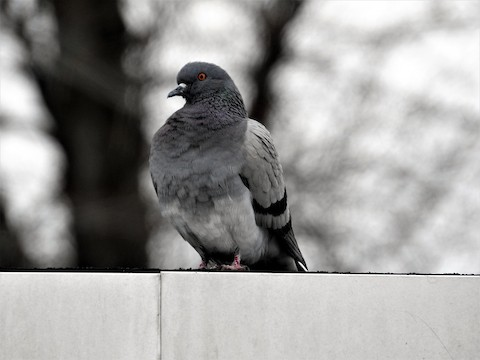pigeon: (150, 59, 314, 273)
